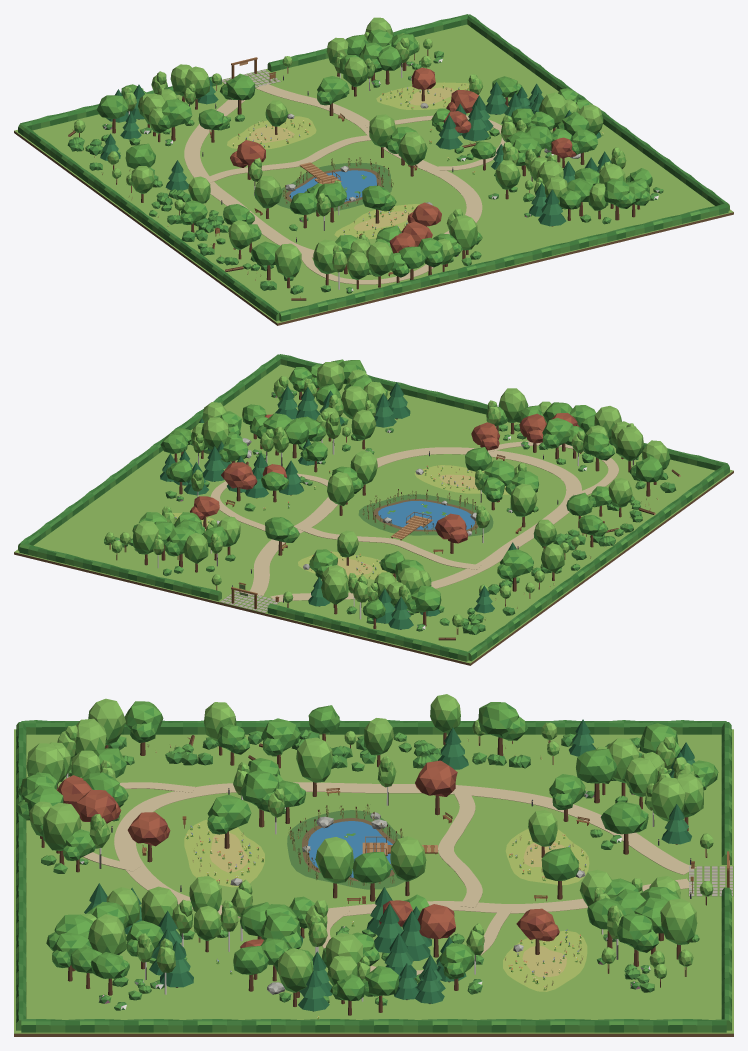
File: Park_A_NatureFirst.fbx
3 views of the same model, one above another, from view 1: azimuth 30°, elevation 25°; view 2: azimuth 150°, elevation 25°; view 3: azimuth 270°, elevation 25° (orthographic). The views are drawn at different scales.
Parts seen in each view (by area): view 1: Park_A_Ground_01, Park_A_Path_01_01, Park_A_Meadow_02_01, Park_A_Meadow_03_01, Park_A_Meadow_01_01, Park_A_Pond_Edge_01, Park_A_Path_02_01, Park_A_Pond_Water_01, Park_A_Tree_Oak_32, Park_A_Tree_Linden_13, Park_A_Tree_Linden_09, Park_A_Path_03_01 (+34 smaller); view 2: Park_A_Ground_01, Park_A_Path_01_01, Park_A_Pond_Edge_01, Park_A_Pond_Water_01, Park_A_Meadow_01_01, Park_A_Path_02_01, Park_A_Meadow_02_01, Park_A_Tree_Oak_47, Park_A_Tree_Linden_14, Park_A_Tree_Oak_34, Park_A_Tree_CopperBeech_04, Park_A_Tree_CopperBeech_03 (+35 smaller); view 3: Park_A_Ground_01, Park_A_Path_01_01, Park_A_Meadow_01_01, Park_A_Meadow_03_01, Park_A_Pond_Edge_01, Park_A_Meadow_02_01, Park_A_Path_02_01, Park_A_Pond_Water_01, Park_A_Tree_Oak_47, Park_A_Tree_Linden_31, Park_A_Tree_Linden_21, Park_A_Tree_Linden_09 (+76 smaller).
Part boxes in pixels (left/top/right/bottom): Park_A_Ground_01: left=14, top=24, right=733, bottom=325; Park_A_Path_01_01: left=184, top=83, right=482, bottom=257; Park_A_Meadow_02_01: left=227, top=116, right=316, bottom=149; Park_A_Meadow_03_01: left=376, top=82, right=469, bottom=109; Park_A_Meadow_01_01: left=334, top=204, right=420, bottom=239; Park_A_Pond_Edge_01: left=277, top=162, right=392, bottom=212; Park_A_Path_02_01: left=205, top=135, right=371, bottom=182; Park_A_Pond_Water_01: left=289, top=170, right=376, bottom=201; Park_A_Tree_Oak_32: left=158, top=99, right=192, bottom=141; Park_A_Tree_Linden_13: left=366, top=241, right=393, bottom=287; Park_A_Tree_Linden_09: left=449, top=215, right=477, bottom=259; Park_A_Path_03_01: left=301, top=252, right=434, bottom=284; Park_A_Ground_01: left=14, top=364, right=733, bottom=665; Park_A_Path_01_01: left=248, top=447, right=581, bottom=602; Park_A_Pond_Edge_01: left=358, top=494, right=493, bottom=536; Park_A_Pond_Water_01: left=378, top=501, right=474, bottom=529; Park_A_Meadow_01_01: left=414, top=465, right=509, bottom=494; Park_A_Path_02_01: left=297, top=525, right=480, bottom=569; Park_A_Meadow_02_01: left=298, top=551, right=393, bottom=579; Park_A_Tree_Oak_47: left=497, top=549, right=533, bottom=591; Park_A_Tree_Linden_14: left=616, top=426, right=643, bottom=472; Park_A_Tree_Oak_34: left=405, top=585, right=441, bottom=626; Park_A_Tree_CopperBeech_04: left=435, top=513, right=468, bottom=553; Park_A_Tree_CopperBeech_03: left=221, top=462, right=257, bottom=501; Park_A_Ground_01: left=14, top=729, right=733, bottom=1036; Park_A_Path_01_01: left=114, top=782, right=696, bottom=917; Park_A_Meadow_01_01: left=184, top=819, right=264, bottom=887; Park_A_Meadow_03_01: left=503, top=930, right=587, bottom=991; Park_A_Pond_Edge_01: left=287, top=810, right=405, bottom=889; Park_A_Meadow_02_01: left=505, top=829, right=589, bottom=884; Park_A_Path_02_01: left=438, top=789, right=482, bottom=907; Park_A_Pond_Water_01: left=308, top=821, right=392, bottom=877; Park_A_Tree_Oak_47: left=478, top=702, right=527, bottom=755; Park_A_Tree_Linden_31: left=315, top=837, right=353, bottom=898; Park_A_Tree_Linden_21: left=660, top=898, right=697, bottom=959; Park_A_Tree_Linden_09: left=43, top=802, right=81, bottom=864.
Size of the model in its own units: 100 by 9.51 by 100.
